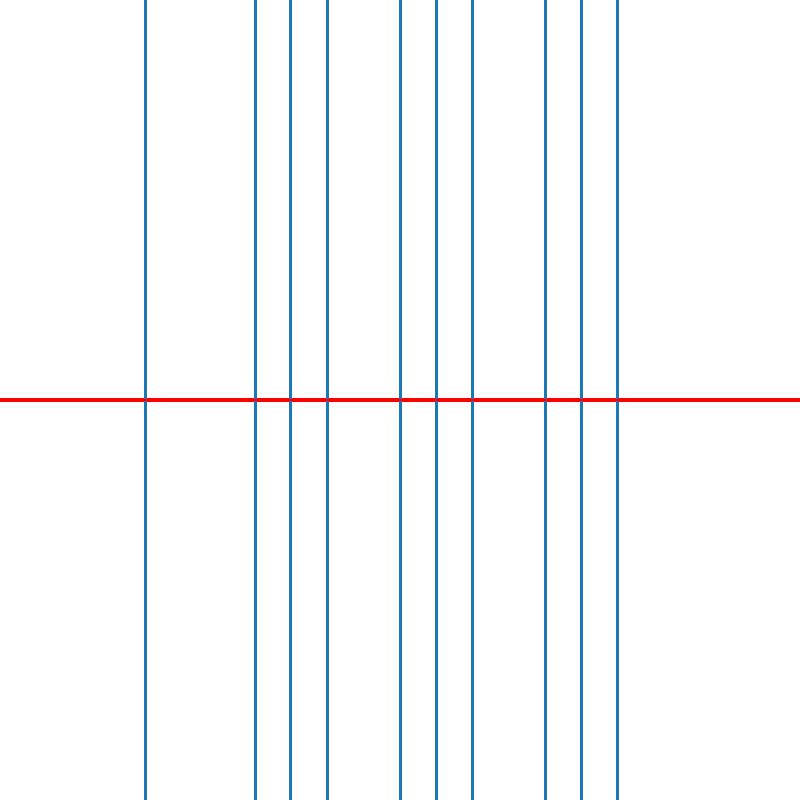root: (541, 396, 549, 404), (250, 396, 258, 404), (432, 396, 440, 404), (141, 396, 149, 404), (323, 396, 330, 404), (287, 396, 294, 404), (578, 396, 585, 404), (396, 396, 403, 404), (469, 396, 476, 404), (614, 396, 621, 404)
